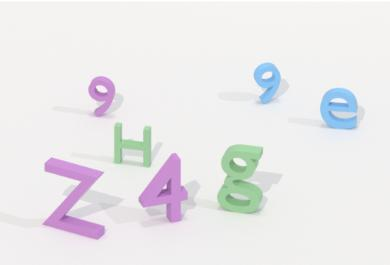4: (136, 151, 190, 227)
9: (85, 73, 119, 121), (251, 59, 284, 107)
H: (112, 118, 155, 172)
Z: (38, 153, 109, 245)
e: (316, 85, 360, 133)
g: (215, 141, 268, 216)
